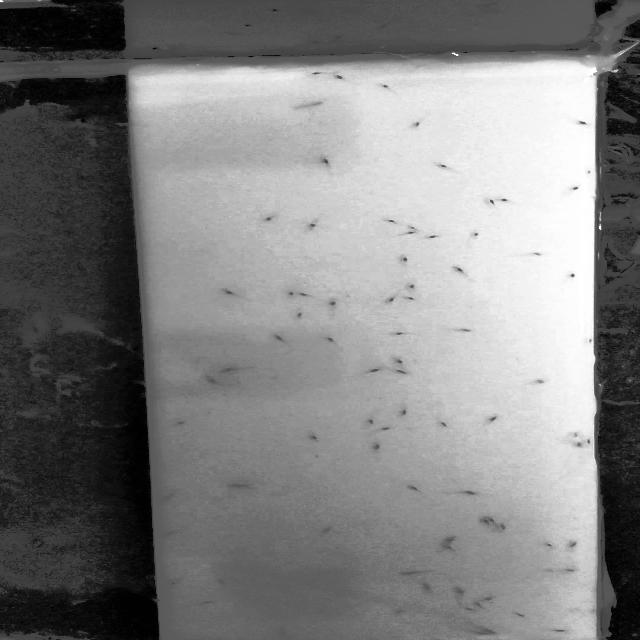shrimp: (548, 186, 588, 200), (290, 100, 332, 112), (220, 288, 256, 302), (274, 331, 295, 351), (131, 392, 170, 402), (365, 426, 398, 437), (160, 525, 184, 540), (201, 376, 235, 386), (163, 575, 184, 591), (460, 487, 490, 498), (298, 219, 325, 231), (349, 369, 382, 378), (404, 570, 437, 579), (223, 362, 252, 372), (450, 265, 476, 276), (461, 231, 484, 243), (507, 251, 552, 257), (409, 118, 431, 130), (363, 441, 383, 454), (411, 235, 443, 243), (310, 155, 331, 167), (539, 540, 560, 552), (262, 214, 284, 225), (406, 484, 428, 495), (566, 116, 590, 126), (324, 336, 344, 348), (225, 481, 249, 491), (384, 217, 407, 227), (363, 418, 386, 428), (420, 582, 438, 594), (482, 196, 501, 207), (387, 291, 404, 303), (540, 565, 560, 575), (480, 625, 500, 635), (556, 274, 578, 283), (271, 627, 293, 636), (401, 254, 417, 266), (484, 515, 500, 527), (451, 584, 467, 596), (388, 355, 409, 364), (211, 579, 232, 588), (438, 160, 456, 170), (322, 298, 340, 308), (157, 494, 175, 504), (564, 540, 584, 549), (471, 598, 488, 608), (302, 72, 330, 78), (388, 369, 412, 376), (375, 84, 393, 93), (386, 233, 418, 238), (440, 543, 456, 553), (559, 566, 581, 573), (403, 227, 422, 235), (496, 196, 514, 204), (479, 518, 491, 530), (396, 408, 409, 419), (458, 602, 472, 612), (144, 597, 167, 603), (310, 434, 326, 442), (537, 376, 555, 383), (485, 413, 499, 422), (406, 294, 421, 302), (294, 308, 306, 318), (570, 431, 585, 439), (510, 612, 530, 618), (321, 524, 338, 531), (298, 291, 316, 297), (176, 422, 194, 428), (334, 75, 349, 82), (390, 331, 416, 335), (551, 626, 568, 632), (438, 421, 452, 428), (400, 286, 416, 292), (442, 537, 458, 543), (465, 629, 481, 635), (198, 600, 216, 605), (464, 328, 478, 334), (286, 290, 298, 296), (573, 442, 585, 448), (585, 436, 594, 444), (393, 608, 404, 614), (482, 596, 492, 600)
